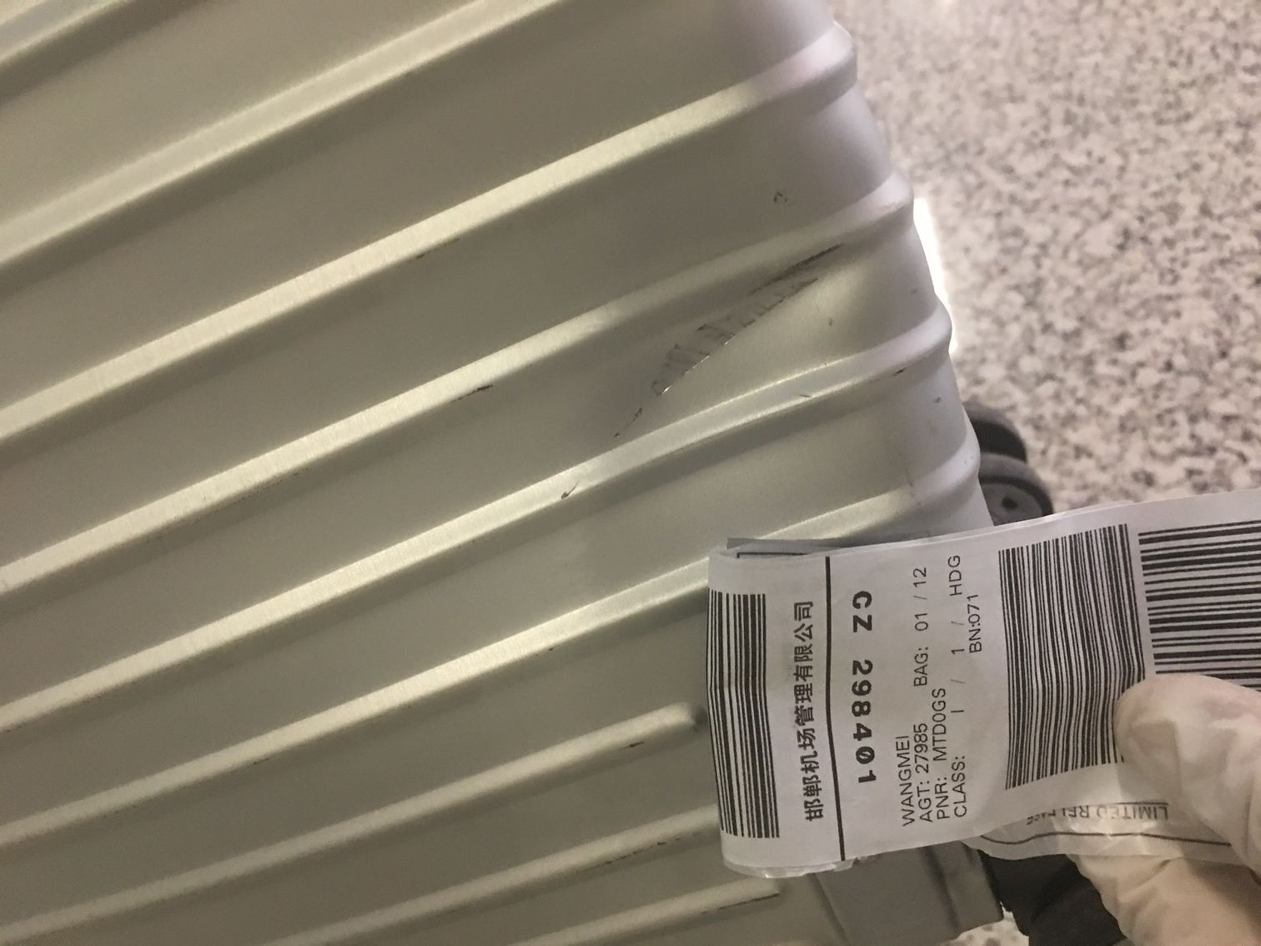rupture: (589, 198, 862, 481)
